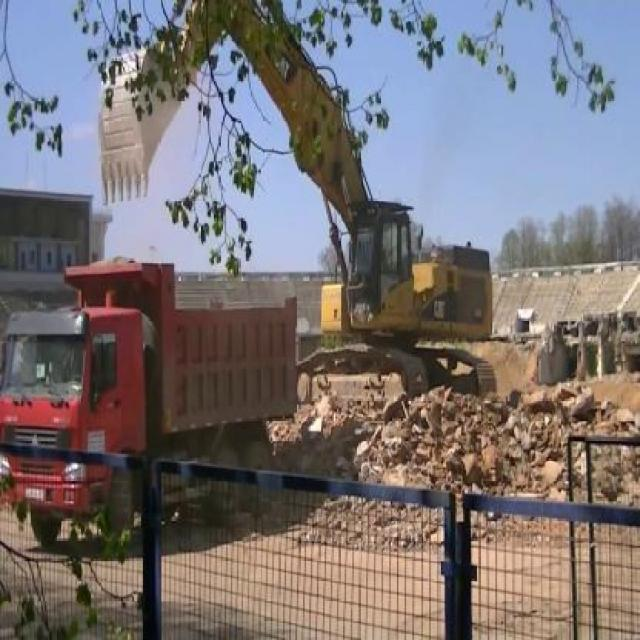Dump Truck: (2, 256, 298, 555)
Excavator: (98, 1, 498, 402)
